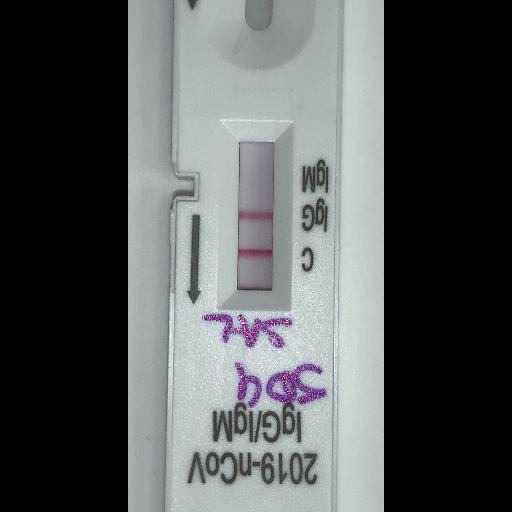Pos: (175, 0, 335, 510)
